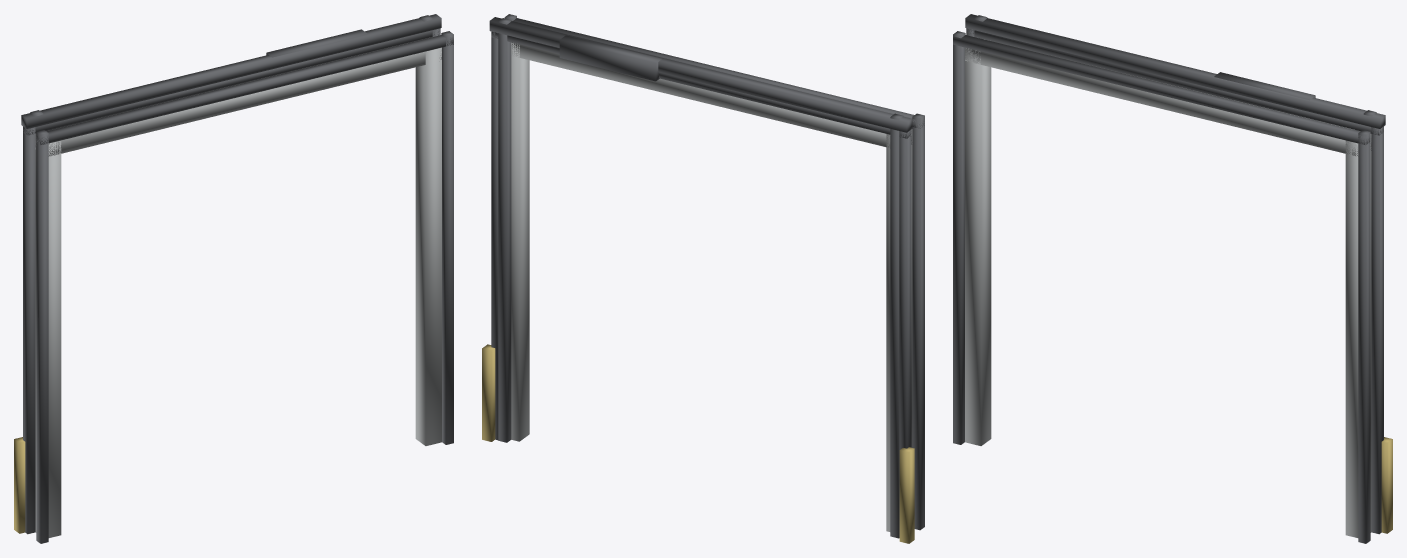
Rendered from bay_opening_loading_bay_w420_h420_d20.glb.
3 renders of one model, left to right at view 1: azimuth 30°, elevation 25°; view 2: azimuth 150°, elevation 25°; view 3: azimuth 330°, elevation 25°, orthographic.
Parts seen in each view (by area): view 1: world; view 2: world; view 3: world.
Part boxes in pixels (left/top/right/bottom): world: left=14, top=14, right=453, bottom=543; world: left=482, top=14, right=924, bottom=543; world: left=953, top=14, right=1392, bottom=543.
Size of the model in its own units: 4.89 by 4.59 by 0.422.
